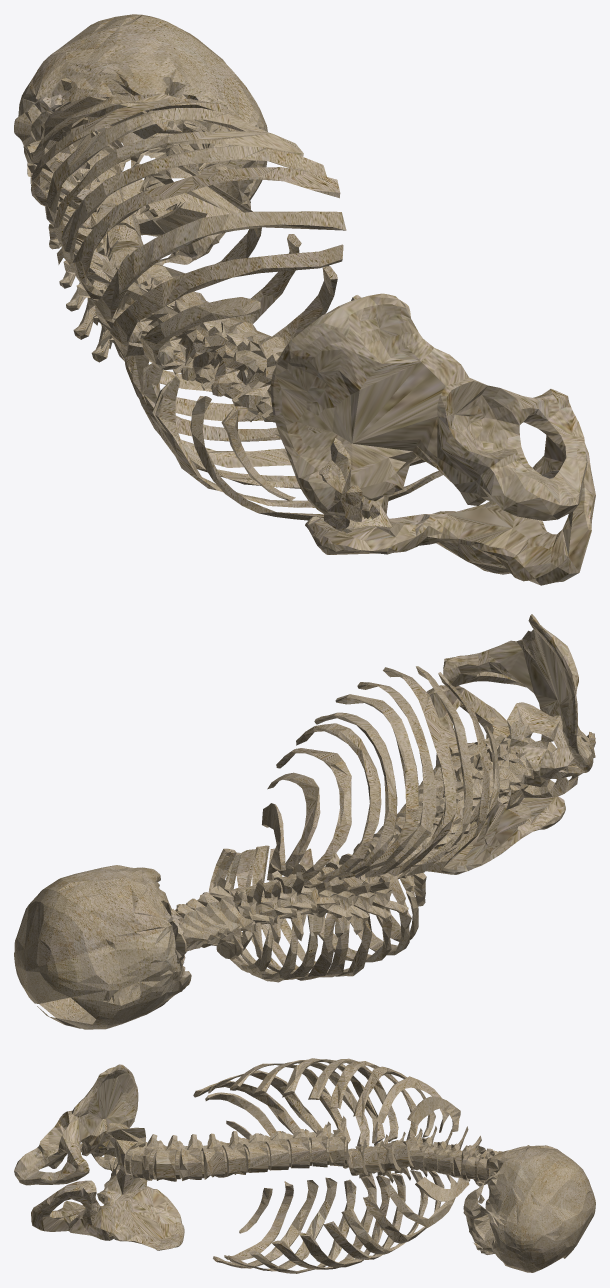
File: B49_Skeleton.FBX
3 views of the same model, one above another, from view 1: azimuth 30°, elevation 25°; view 2: azimuth 150°, elevation 25°; view 3: azimuth 270°, elevation 25° (orthographic). The views are drawn at different scales.
Parts seen in each view (by area): view 1: Skeleton; view 2: Skeleton; view 3: Skeleton.
Boxes of the visible parts, x1=… form: Skeleton: x1=14, y1=14, x2=595, y2=585; Skeleton: x1=14, y1=614, x2=595, y2=1029; Skeleton: x1=14, y1=1058, x2=595, y2=1273.
Bounding box in the file's own units: 22 × 19.82 × 56.8.
Materials: 1 (1 with a texture image).
